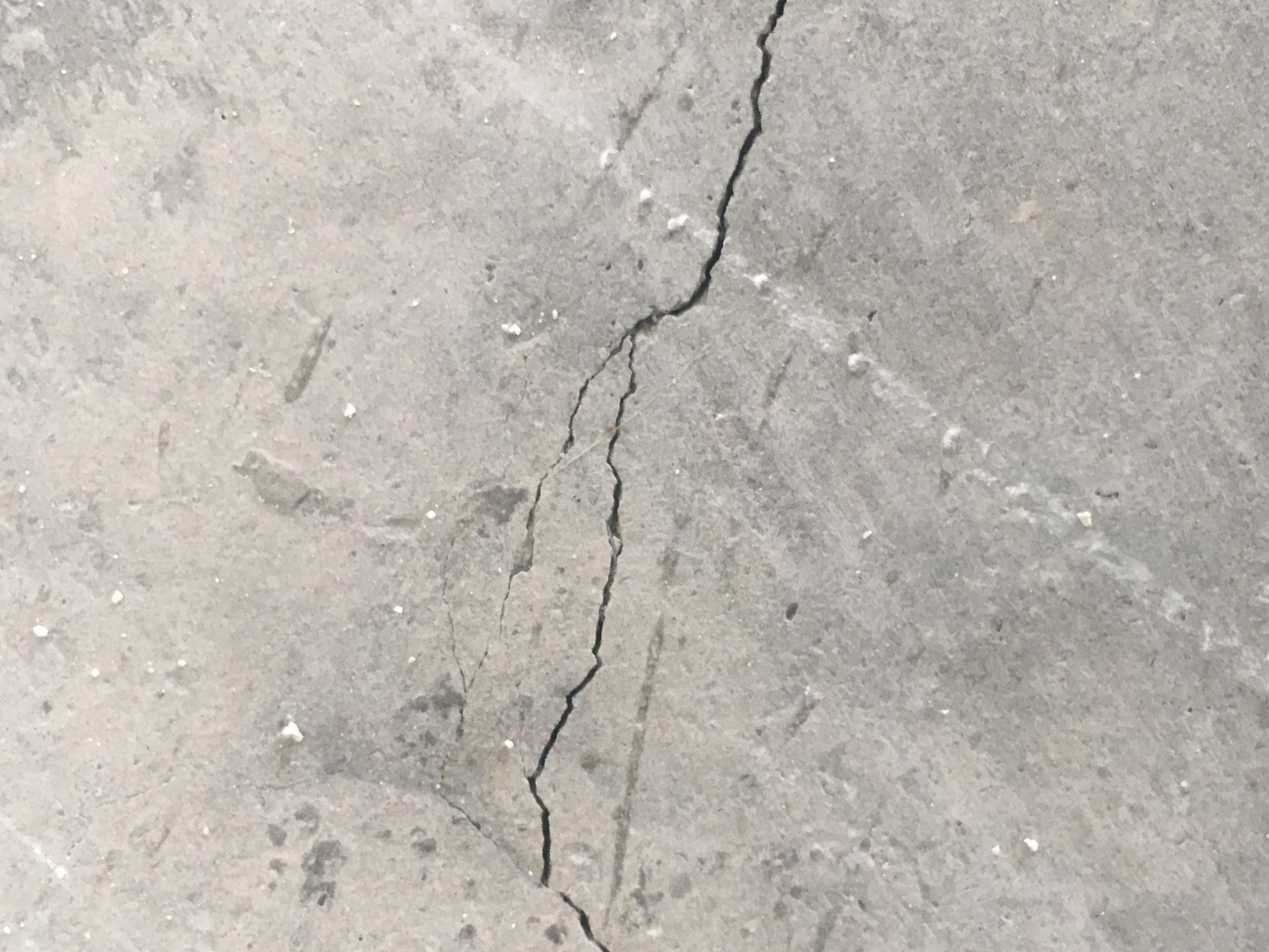Structural-Crack: (435, 1, 790, 946)
